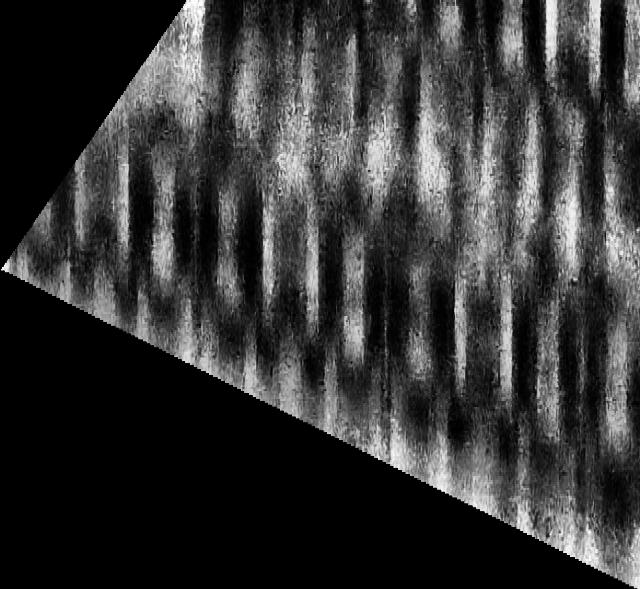stairs: (1, 0, 640, 589)
